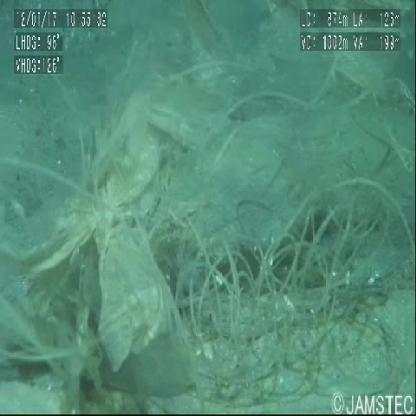Rác: (3, 109, 416, 390)
